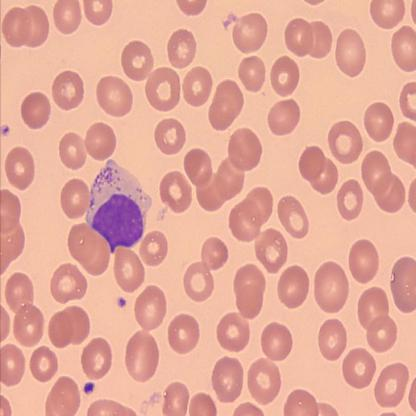Atypical lymphocyte: (86, 158, 150, 249)
